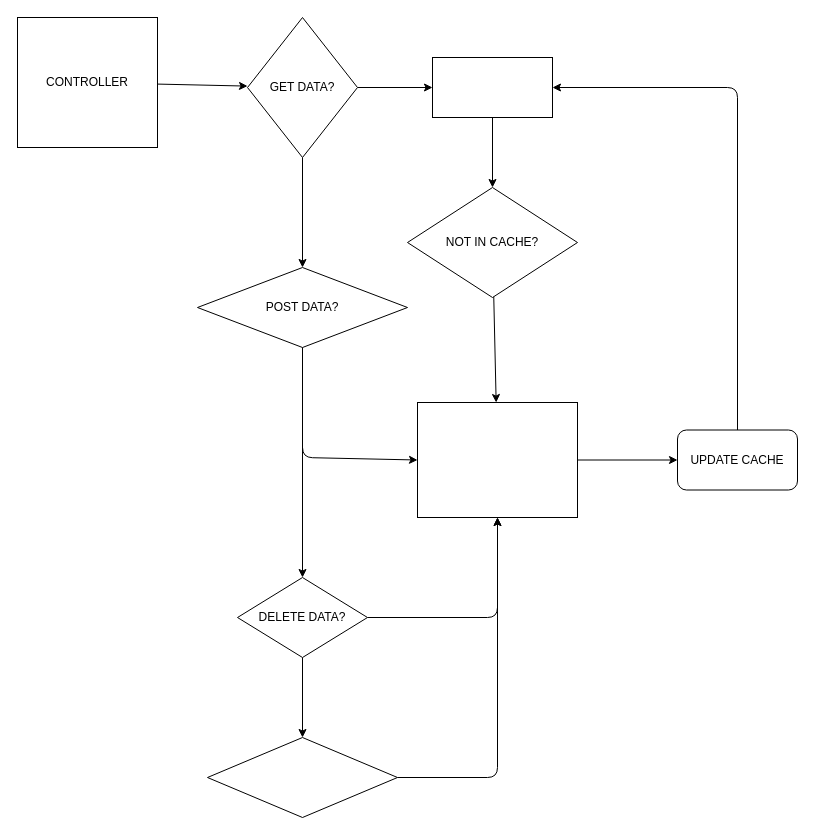
The diagram is 815 pixels wide and 835 high, and some of its shapes have lost their labels. The centre of each missing label's shape, as x and y in pixels:
CACHE: point (492, 87)
DATABASE: point (497, 460)
UPDATE DATA?: point (302, 777)
